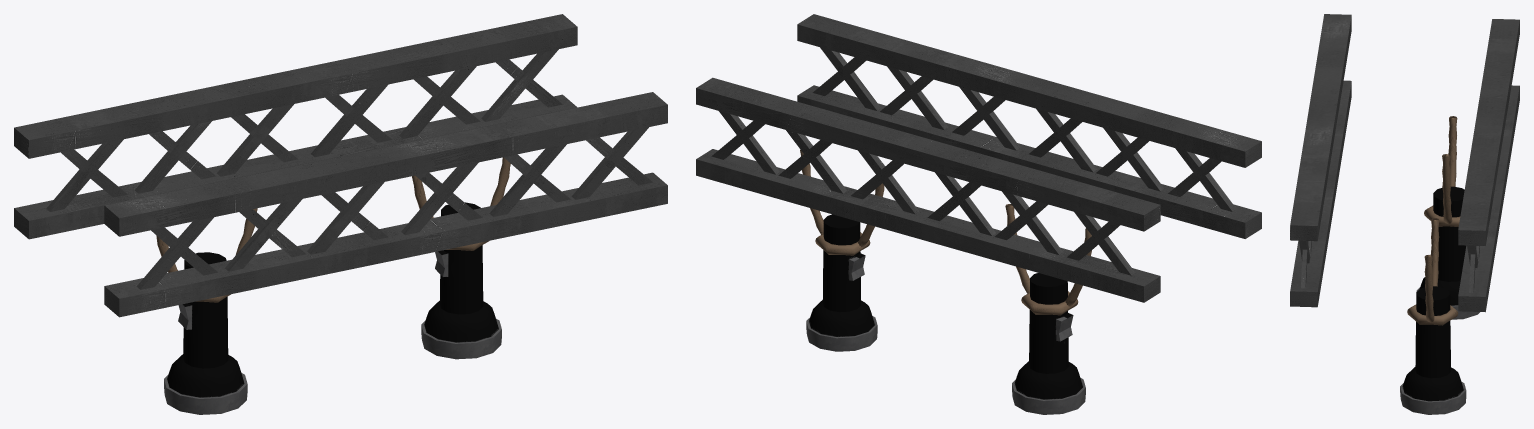
The model's file is VigaTrasera_Fondo.fbx.
The picture shows the model from 3 angles, left to right: view 1: azimuth 30°, elevation 25°; view 2: azimuth 150°, elevation 25°; view 3: azimuth 270°, elevation 25°; orthographic projection. The views are drawn at different scales.
Parts seen in each view (by area): view 1: Viga.003, Viga.002, Lampara.003, Lampara.004, Cylinder.003, Cylinder.002; view 2: Viga.002, Viga.003, Lampara.003, Lampara.004, Cylinder.002, Cylinder.003; view 3: Viga.003, Viga.002, Lampara.004, Lampara.003, Cylinder.003, Cylinder.002.
Part boxes in pixels (x1,y1,x2,y2): Viga.003: (104,92,667,317); Viga.002: (14,14,577,239); Lampara.003: (164,252,247,414); Lampara.004: (421,202,501,359); Cylinder.003: (412,157,510,250); Cylinder.002: (156,208,257,302); Viga.002: (696,77,1160,302); Viga.003: (797,14,1261,238); Lampara.003: (1012,273,1085,414); Lampara.004: (806,214,877,351); Cylinder.002: (1005,204,1091,315); Cylinder.003: (800,150,884,255); Viga.003: (1290,14,1351,307); Viga.002: (1458,19,1519,312); Lampara.004: (1400,286,1466,414); Lampara.003: (1416,186,1479,319); Cylinder.003: (1407,218,1458,325); Cylinder.002: (1424,116,1460,226).
Size of the model in its own units: 1402 by 682 by 627.
3 materials, 3 textured.
